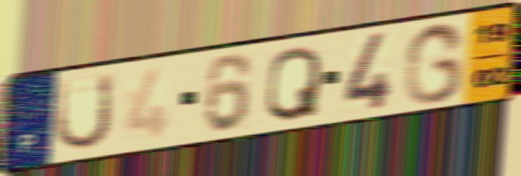4: (340, 29, 396, 114), (121, 64, 174, 143)
6: (202, 51, 253, 137)
G: (400, 19, 468, 107)
Q: (262, 43, 324, 124)
U: (51, 70, 117, 154)
